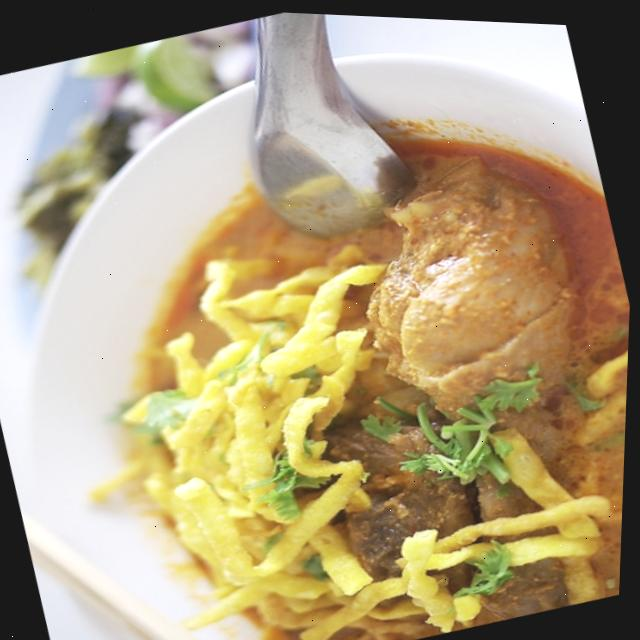面条主食: (54, 88, 638, 640)
